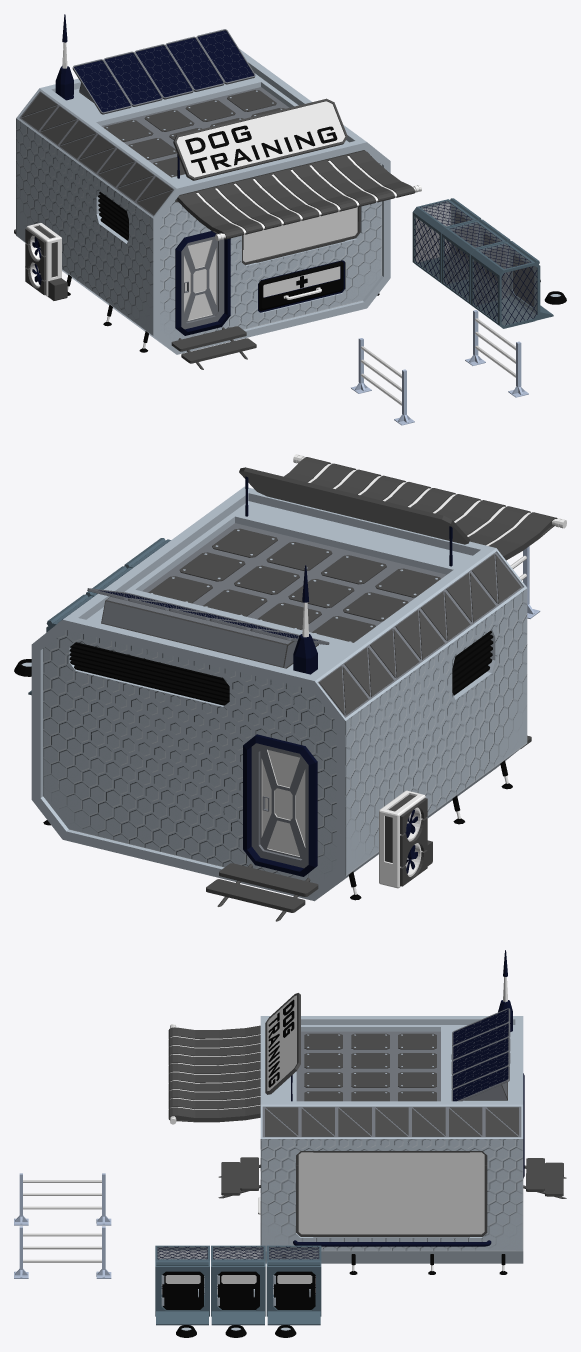
File: Training level 1 Legit.fbx
The picture shows the model from 3 angles, top to bottom: view 1: azimuth 30°, elevation 25°; view 2: azimuth 150°, elevation 25°; view 3: azimuth 270°, elevation 25°; orthographic projection. The views are drawn at different scales.
Visible parts, largest first — view 1: Training level 1, Training level 1.002, Training level 1.001; view 2: Training level 1, Training level 1.004, Training level 1.002; view 3: Training level 1, Training level 1.003.
Boxes of the visible parts, x1,y1,x2,y2 form: Training level 1: (14, 14, 566, 425); Training level 1.002: (16, 118, 153, 335); Training level 1.001: (160, 155, 381, 341); Training level 1: (14, 454, 566, 921); Training level 1.004: (43, 630, 336, 884); Training level 1.002: (345, 588, 527, 875); Training level 1: (14, 950, 566, 1337); Training level 1.003: (260, 1139, 523, 1251).
Bounding box in the file's own units: 877 × 522 × 1126.
15 materials, 4 textured.
